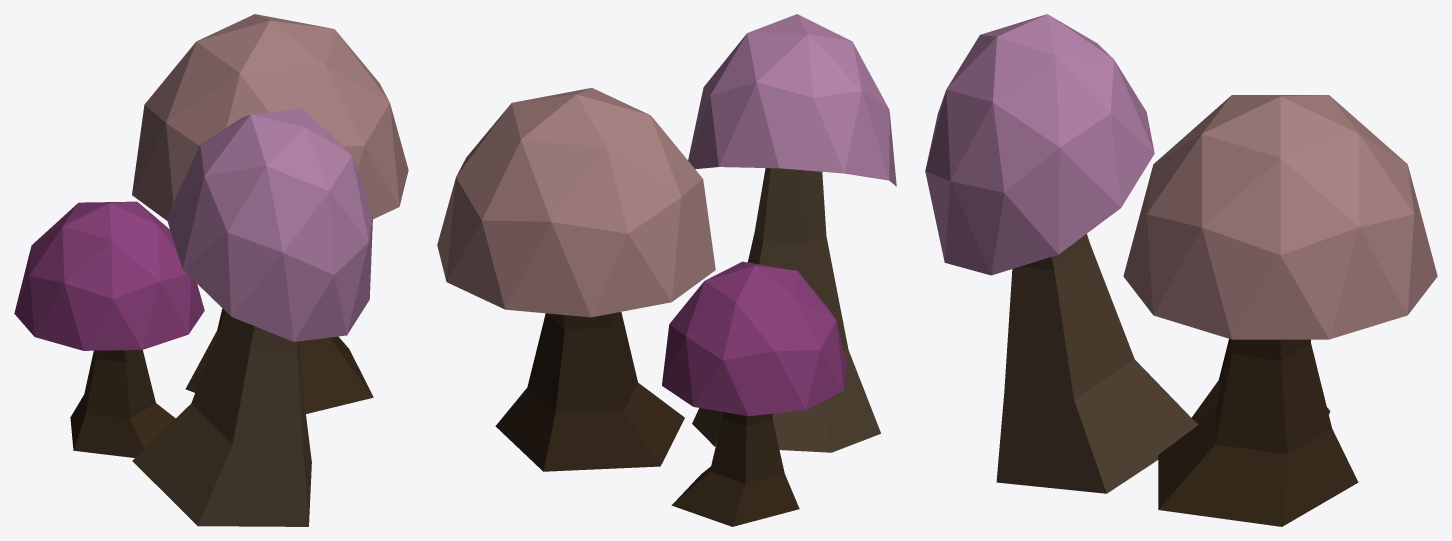
File: Mushrooms3.glb
3 renders of one model, left to right at view 1: azimuth 30°, elevation 25°; view 2: azimuth 150°, elevation 25°; view 3: azimuth 270°, elevation 25°, orthographic. The views are drawn at different scales.
Visible parts, largest first — view 1: Mushroom_12, Mushroom_10, Mushroom_13; view 2: Mushroom_10, Mushroom_12, Mushroom_13; view 3: Mushroom_10, Mushroom_12, Mushroom_13.
Boxes of the visible parts, x1,y1,x2,y2 form: Mushroom_12: (132,108,372,526); Mushroom_10: (132,14,408,413); Mushroom_13: (14,201,204,457); Mushroom_10: (437,88,715,471); Mushroom_12: (688,14,896,452); Mushroom_13: (662,261,847,526); Mushroom_10: (1123,95,1437,526); Mushroom_12: (925,14,1197,493); Mushroom_13: (1191,339,1330,424).
Size of the model in its own units: 0.1938 by 0.2039 by 0.2108.
1 material, 1 textured.
